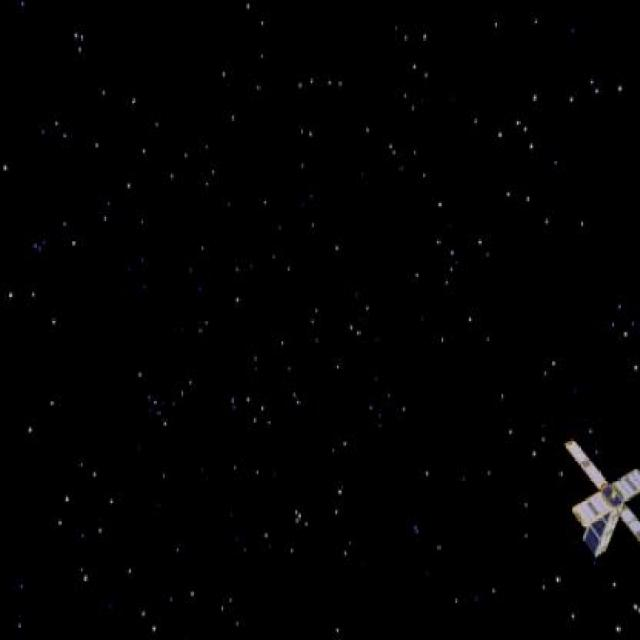medium_debris: (558, 431, 640, 566)
